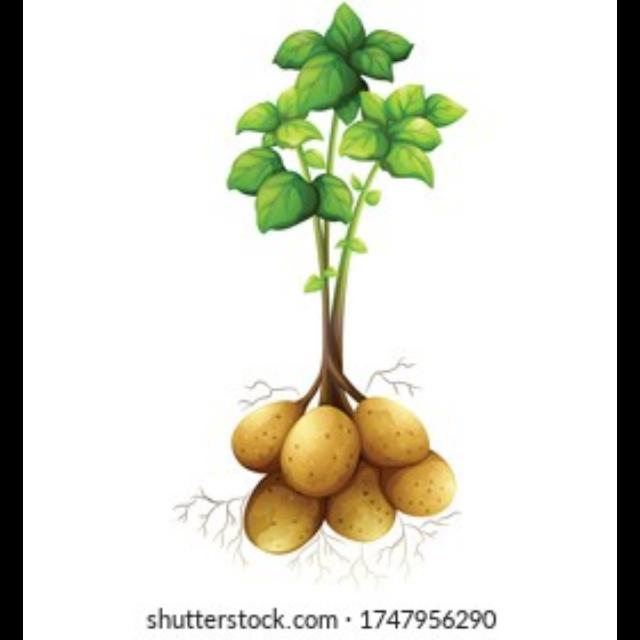Potato: (278, 406, 367, 502), (352, 394, 438, 474), (244, 478, 322, 560), (381, 446, 457, 522), (232, 406, 312, 476), (317, 476, 398, 542)
